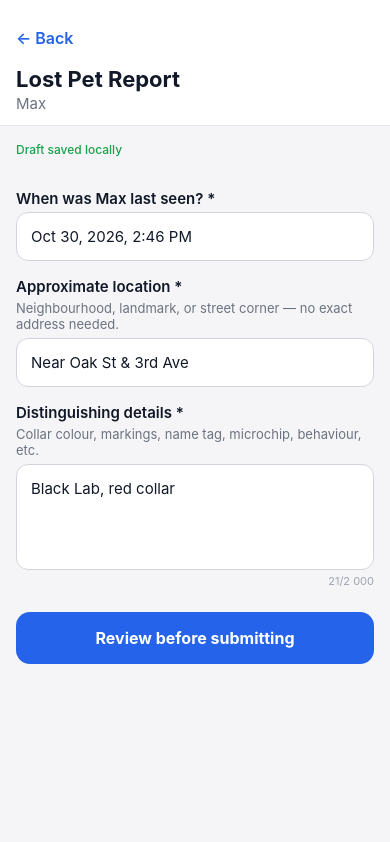
Test: LostPetReportScreen — review modal › closes review modal when close button pressed
Click the button with aria-label "Review and consent".
click(195, 638)  # box [16,612,374,664]
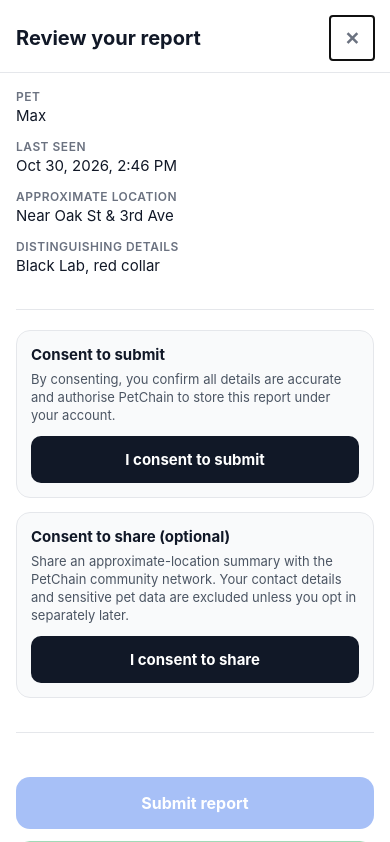
Expected: the heading "Review your report" is shown, [16,26,201,50]
Click the button named "Close review".
click(352, 38)  # box [330,16,374,60]
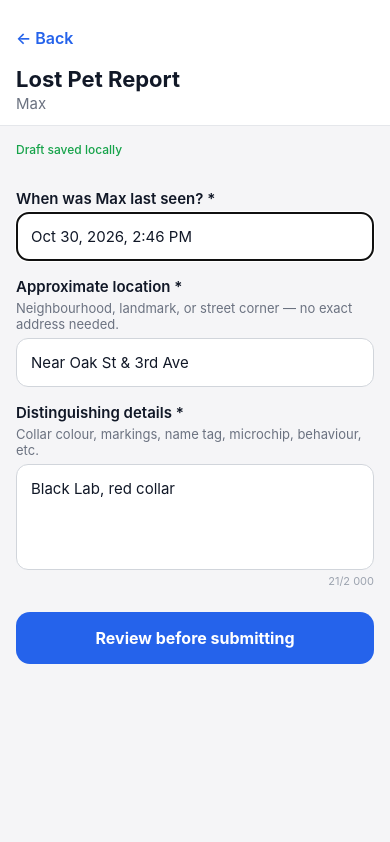
Expected: the heading "Review your report" is gone
